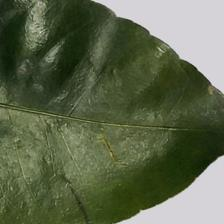healthy: (12, 9, 175, 182)
